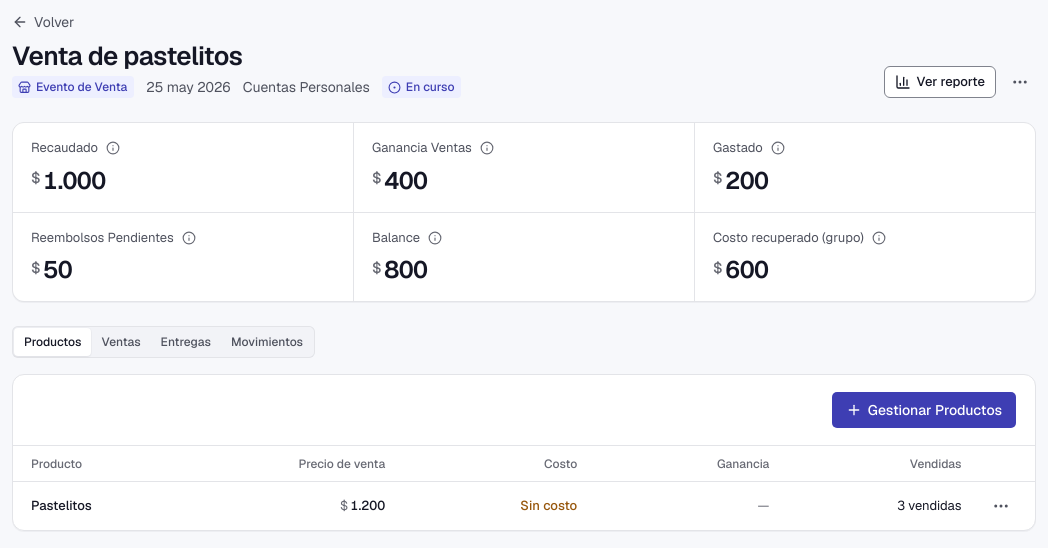
Scenario: EventoDetailView › encabezado: estado, destino de la ganancia y acciones agrupadas en ⋯
This screenshot has width=1048, height=548.
Check: the text "En curso" is shown, box x1=382 y1=76 x2=461 y2=98
Check: the link "Ver reporte" is shown, box x1=884 y1=66 x2=996 y2=98
Click the button named "Más acciones del evento" at coordinates (1020, 82), box x1=1004 y1=66 x2=1036 y2=98
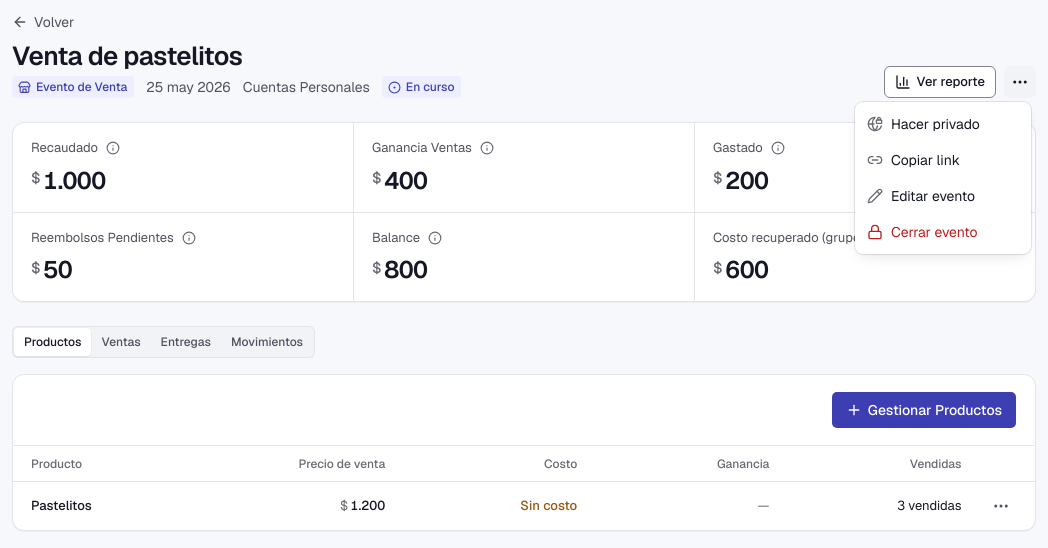
Check: the menu item "Hacer privado" is shown, box x1=867 y1=115 x2=980 y2=133
Check: the menu item "Copiar link" is shown, box x1=867 y1=151 x2=960 y2=169
Check: the menu item "Editar evento" is shown, box x1=867 y1=187 x2=975 y2=205
